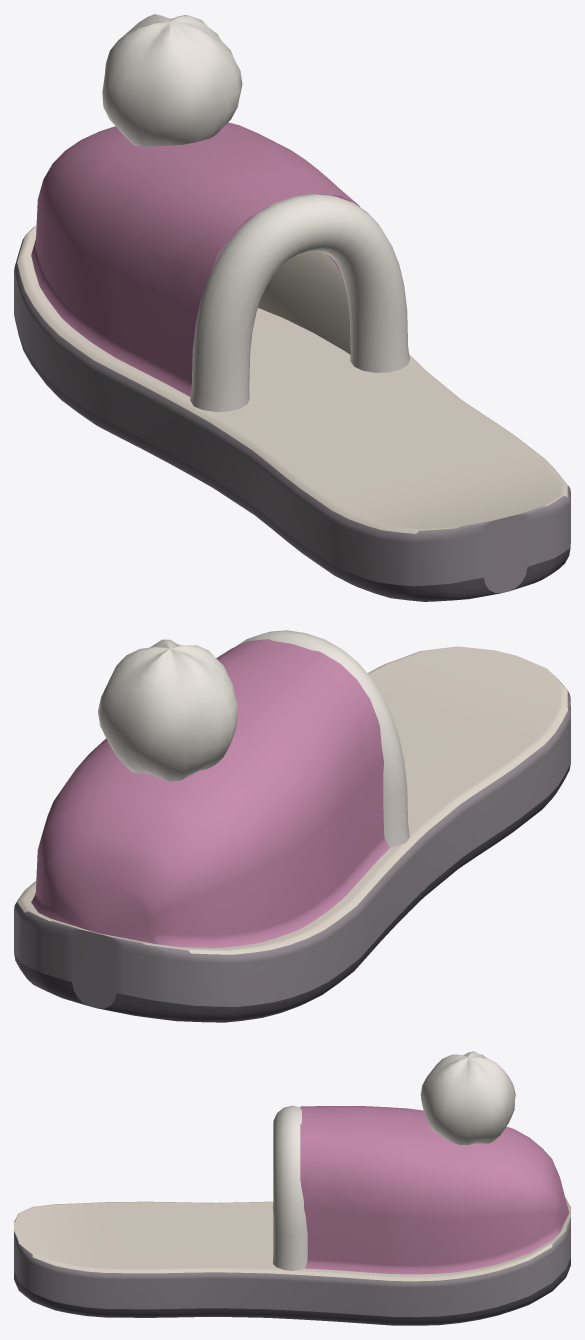
File: w_slipper.glb
The picture shows the model from 3 angles, top to bottom: view 1: azimuth 30°, elevation 25°; view 2: azimuth 150°, elevation 25°; view 3: azimuth 270°, elevation 25°; orthographic projection. The views are drawn at different scales.
Visible parts, largest first — view 1: sole_wzN, toe_wzA, sole_wzB, collar_wzB, pom_wzN, sole_wzB.001; view 2: toe_wzA, sole_wzB, sole_wzN, pom_wzN, sole_wzB.001, collar_wzB; view 3: toe_wzA, sole_wzB, sole_wzN, pom_wzN, sole_wzB.001, collar_wzB.
Boxes of the visible parts, x1,y1,x2,y2 form: sole_wzN: (17, 225, 567, 533); toe_wzA: (31, 122, 359, 396); sole_wzB: (14, 227, 570, 593); collar_wzB: (190, 193, 409, 411); pom_wzN: (102, 14, 242, 146); sole_wzB.001: (14, 318, 570, 601); toe_wzA: (31, 639, 389, 947); sole_wzB: (14, 675, 570, 1008); sole_wzN: (17, 646, 567, 954); pom_wzN: (98, 639, 237, 781); sole_wzB.001: (14, 763, 570, 1022); collar_wzB: (236, 630, 409, 847); toe_wzA: (300, 1106, 568, 1274); sole_wzB: (14, 1199, 570, 1317); sole_wzN: (14, 1198, 570, 1281); pom_wzN: (420, 1051, 515, 1144); sole_wzB.001: (14, 1257, 570, 1325); collar_wzB: (272, 1105, 307, 1270).
Size of the model in its own units: 0.1067 by 0.1265 by 0.279.
